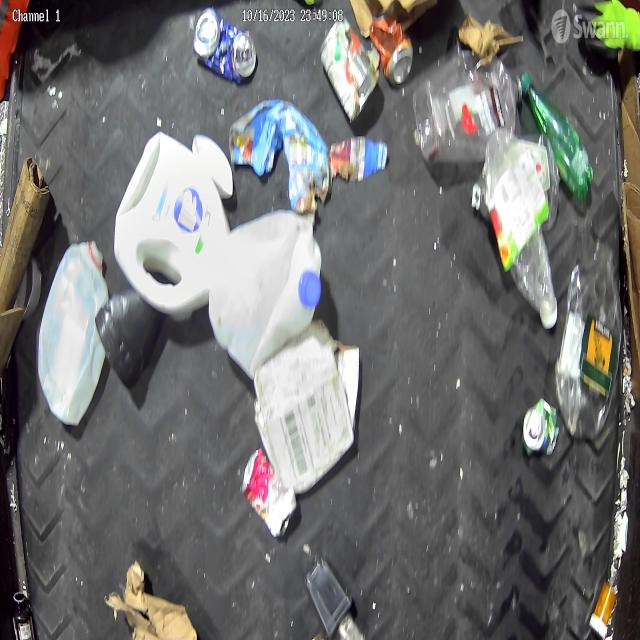can: (320, 18, 379, 122), (193, 10, 255, 84), (244, 448, 296, 532), (371, 14, 413, 87), (522, 397, 560, 461)
milk_jug: (113, 131, 232, 320), (209, 208, 323, 375), (38, 241, 110, 425)
plastic_bottle: (482, 133, 561, 328), (556, 238, 622, 438), (416, 59, 528, 168)
